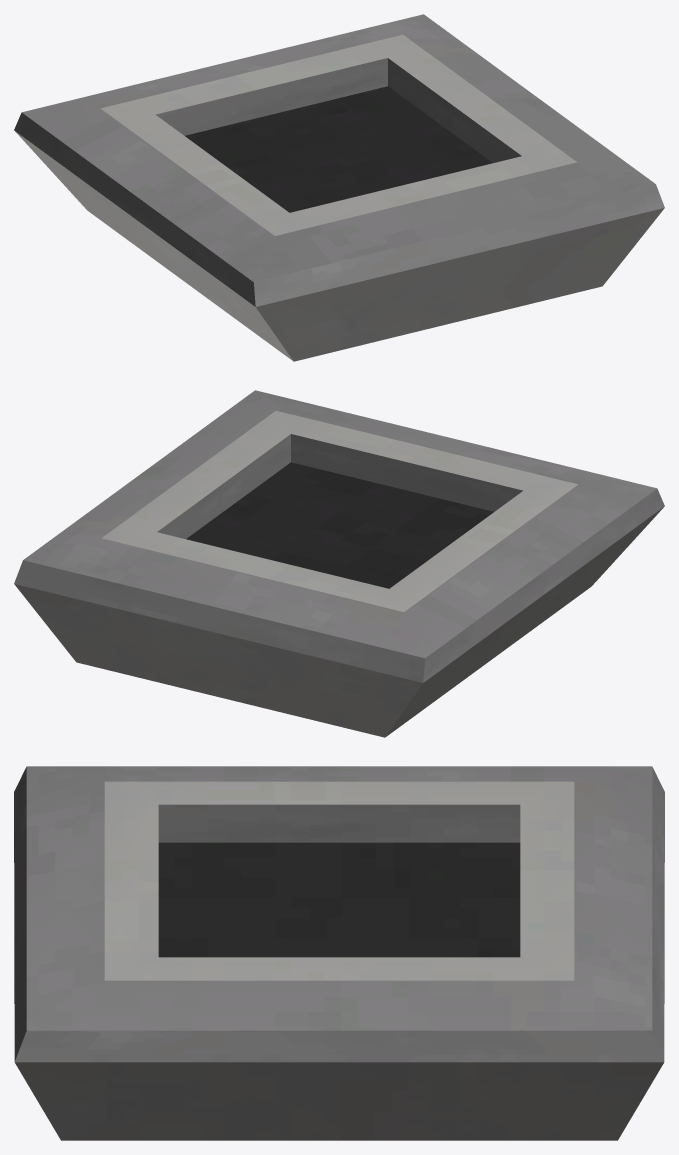
File: cubegun.fbx
3 renders of one model, top to bottom at view 1: azimuth 30°, elevation 25°; view 2: azimuth 150°, elevation 25°; view 3: azimuth 270°, elevation 25°, orthographic. The views are drawn at different scales.
Parts seen in each view (by area): view 1: cubegun1; view 2: cubegun1; view 3: cubegun1.
Part boxes in pixels (left/top/right/bottom): cubegun1: left=14, top=14, right=664, bottom=361; cubegun1: left=14, top=390, right=664, bottom=737; cubegun1: left=14, top=766, right=664, bottom=1140.
Size of the model in its own units: 62.7 by 16.76 by 64.08.
